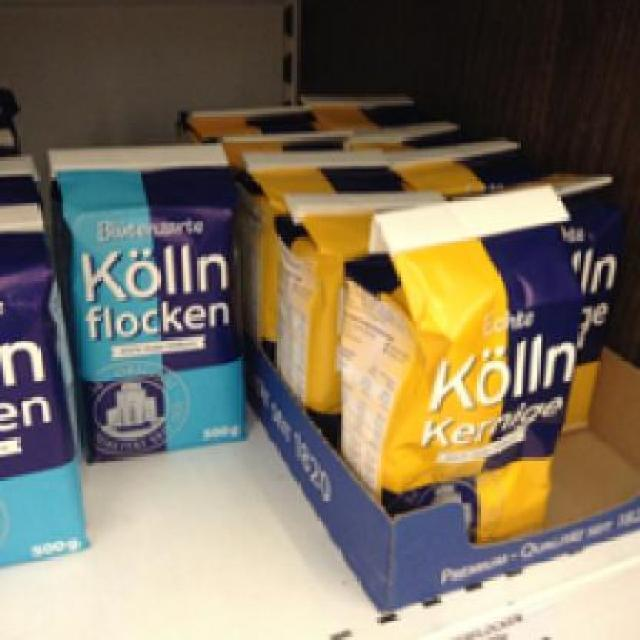Cereal: (333, 180, 590, 554), (36, 137, 252, 466)
